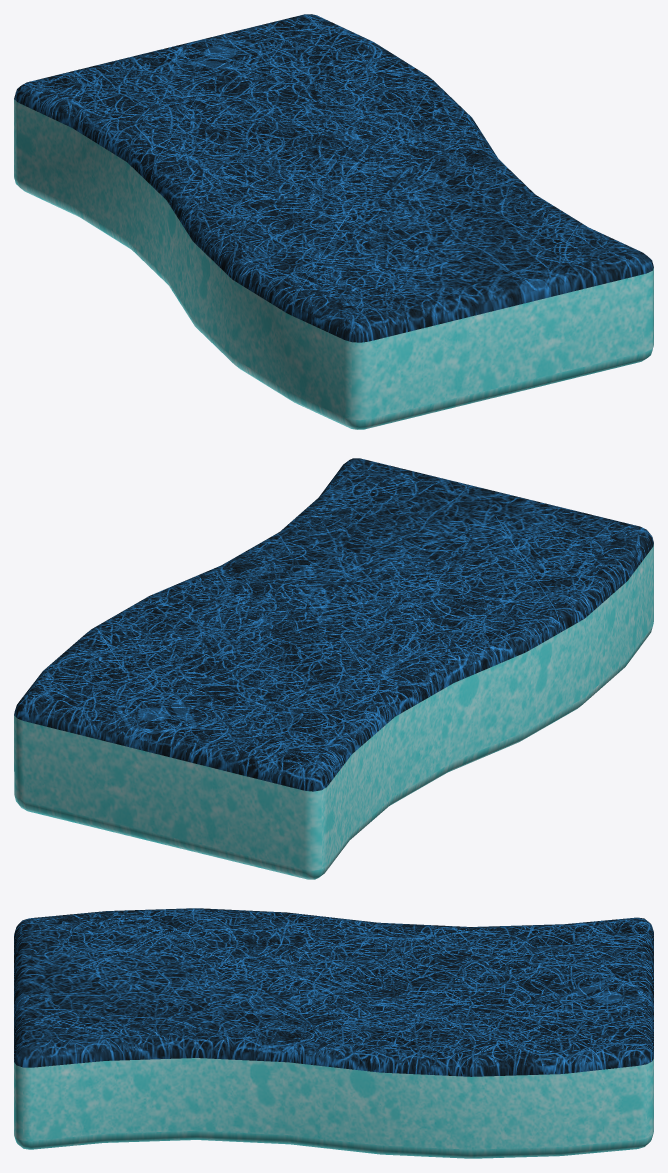
The model's file is JG_Sponge01.fbx.
3 views of the same model, one above another, from view 1: azimuth 30°, elevation 25°; view 2: azimuth 150°, elevation 25°; view 3: azimuth 270°, elevation 25° (orthographic). The views are drawn at different scales.
Parts seen in each view (by area): view 1: Sponge_Wavy; view 2: Sponge_Wavy; view 3: Sponge_Wavy.
Part boxes in pixels (x1=…): Sponge_Wavy: x1=14, y1=14, x2=653, y2=429; Sponge_Wavy: x1=14, y1=458, x2=653, y2=879; Sponge_Wavy: x1=14, y1=908, x2=653, y2=1158.
Size of the model in its own units: 115 by 34.14 by 195.
Materials: 1 (1 with a texture image).
